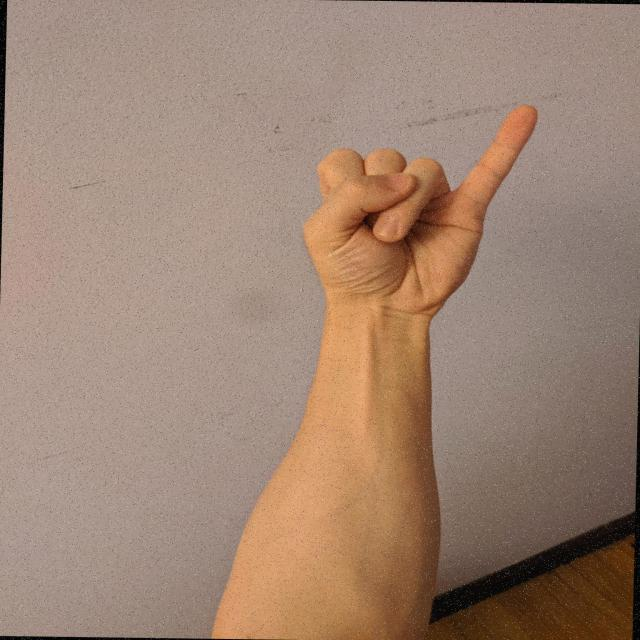I: (294, 97, 545, 324)
